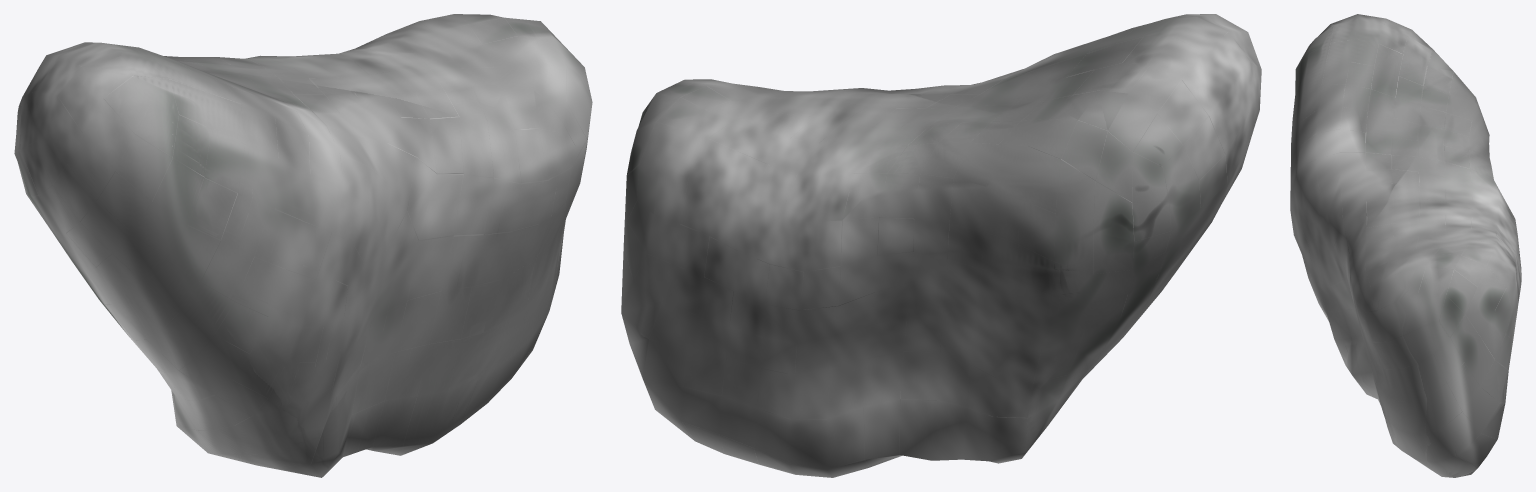
The model's file is stone between tree with hole and Doubletower.fbx.
The picture shows the model from 3 angles, left to right: view 1: azimuth 30°, elevation 25°; view 2: azimuth 150°, elevation 25°; view 3: azimuth 270°, elevation 25°; orthographic projection. The views are drawn at different scales.
Parts seen in each view (by area): view 1: stone1; view 2: stone1; view 3: stone1.
Boxes of the visible parts, x1,y1,x2,y2 form: stone1: [14, 14, 592, 477]; stone1: [621, 14, 1261, 477]; stone1: [1290, 14, 1521, 477].
Bounding box in the file's own units: 327 × 275 × 174.
